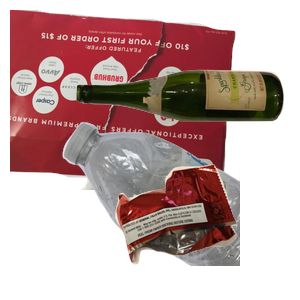glass: (74, 67, 300, 181)
paper: (10, 10, 238, 190)
plastic: (60, 120, 300, 300)
trash: (113, 162, 300, 300)
